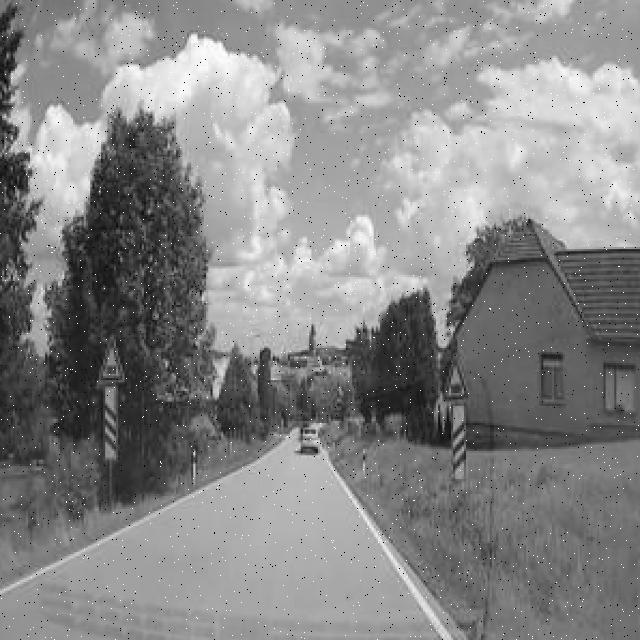clear-road: (62, 442, 404, 619)
